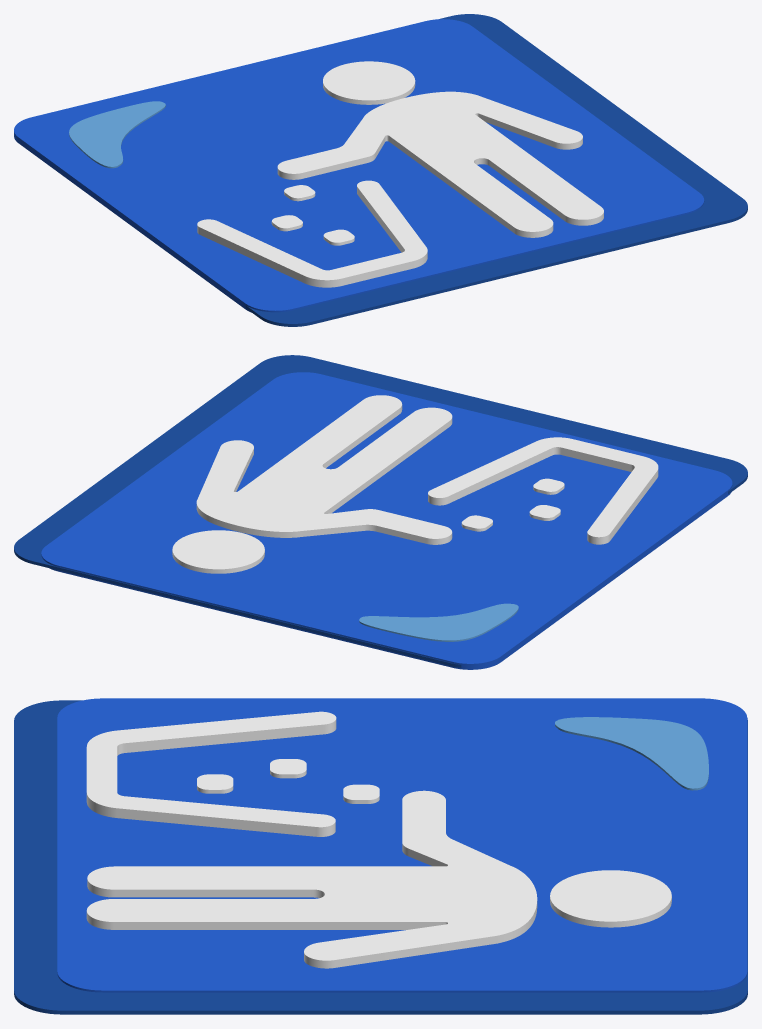
The model's file is emoji_u1f6ae.glb.
3 renders of one model, top to bottom at view 1: azimuth 30°, elevation 25°; view 2: azimuth 150°, elevation 25°; view 3: azimuth 270°, elevation 25°, orthographic. The views are drawn at different scales.
Visible parts, largest first — view 1: emoji_u1f6ae; view 2: emoji_u1f6ae; view 3: emoji_u1f6ae.
Part boxes in pixels (bbox=[...]): emoji_u1f6ae: bbox=[14, 14, 747, 326]; emoji_u1f6ae: bbox=[14, 355, 747, 669]; emoji_u1f6ae: bbox=[14, 698, 747, 1014].
Bounding box in the file's own units: 0.0339 × 0.0014 × 0.0339.
